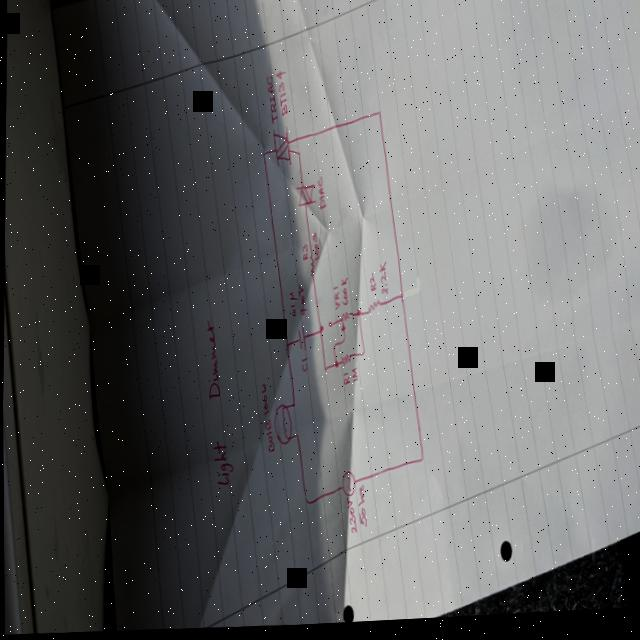capacitor: (294, 326, 305, 356)
junction: (301, 496, 308, 510), (316, 327, 322, 339), (397, 294, 402, 306), (325, 323, 331, 332), (354, 312, 359, 322), (332, 362, 336, 372), (417, 458, 421, 468), (359, 351, 363, 360), (283, 344, 287, 353), (321, 369, 325, 377), (340, 340, 344, 348), (293, 435, 297, 443), (290, 404, 294, 412), (376, 113, 380, 121), (295, 153, 299, 161), (260, 154, 264, 162), (330, 346, 333, 354)
resistor: (336, 314, 349, 336), (365, 302, 379, 320), (307, 256, 313, 285), (339, 356, 350, 370)
source: (339, 473, 353, 502)
text: (199, 319, 234, 491), (258, 384, 273, 457), (263, 78, 276, 128), (273, 73, 286, 121), (354, 487, 366, 533), (343, 501, 356, 539), (314, 178, 325, 215), (376, 264, 387, 301), (295, 286, 306, 321), (309, 234, 319, 266), (338, 280, 347, 311), (286, 293, 295, 321), (330, 288, 338, 315), (367, 275, 375, 297), (299, 246, 307, 265), (298, 359, 306, 377), (348, 371, 356, 388), (340, 375, 348, 390)
